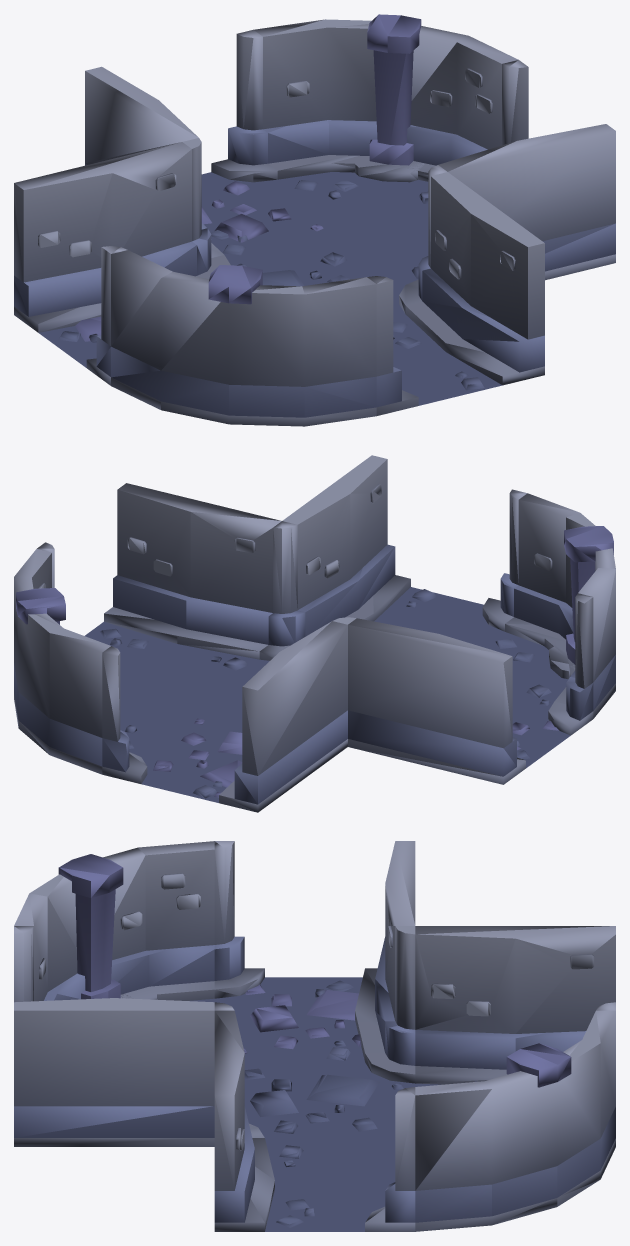
The model's file is room-small-variation_lev2.glb.
The picture shows the model from 3 angles, top to bottom: view 1: azimuth 30°, elevation 25°; view 2: azimuth 150°, elevation 25°; view 3: azimuth 270°, elevation 25°; orthographic projection. The views are drawn at different scales.
Visible parts, largest first — view 1: room-small-variation_lev2; view 2: room-small-variation_lev2; view 3: room-small-variation_lev2.
Part boxes in pixels (box(x1,y1,x2,y2)): room-small-variation_lev2: box(14, 14, 615, 426); room-small-variation_lev2: box(14, 455, 615, 812); room-small-variation_lev2: box(14, 841, 615, 1231).
Size of the model in its own units: 12 by 3.13 by 12.
Materials: 1 (1 with a texture image).
